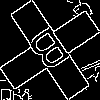B: (25, 25, 78, 82)
